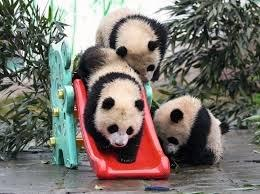bear: (74, 46, 148, 165), (95, 7, 169, 87), (151, 94, 228, 169)
